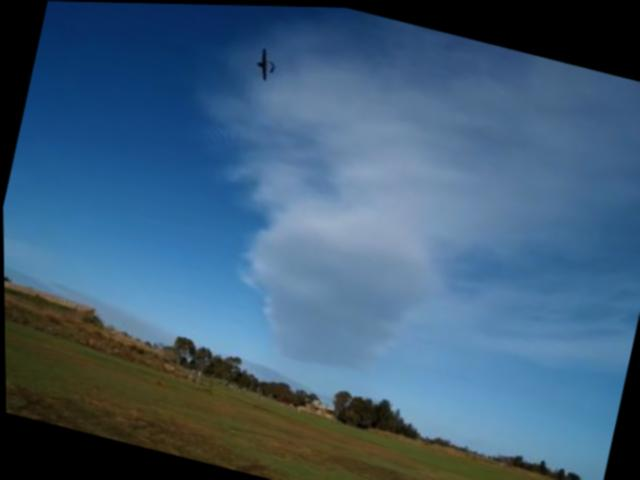uav: (245, 40, 284, 88)
